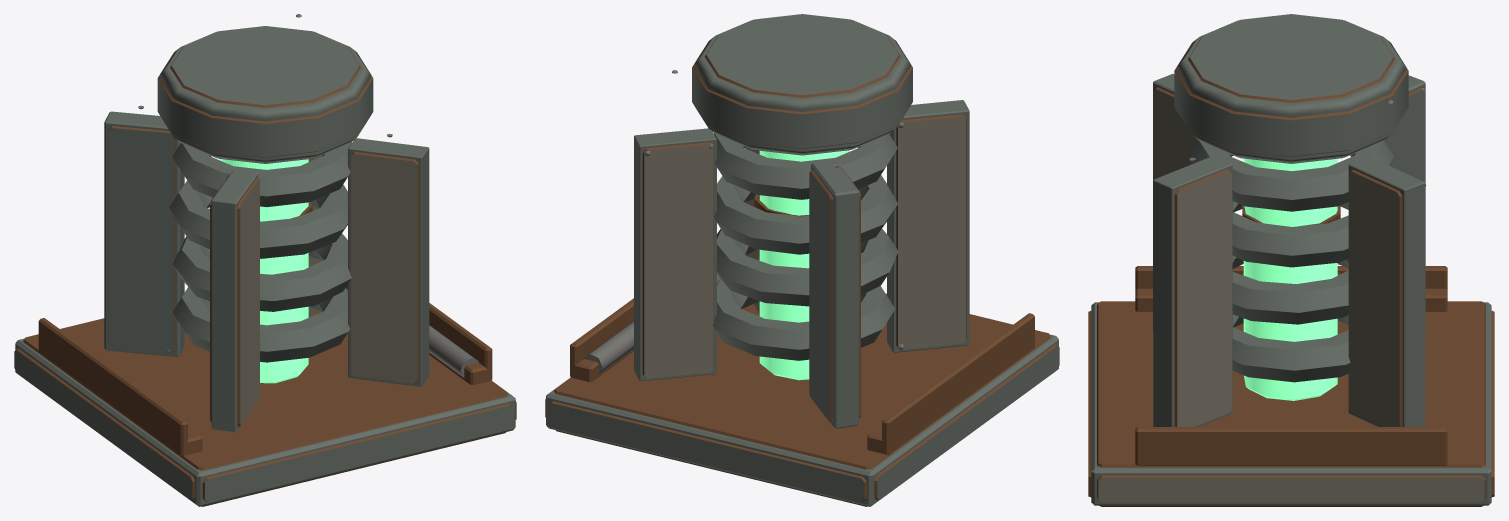
Rendered from R4X_EnergyRegenerator.fbx.
3 views of the same model, side by side, from view 1: azimuth 30°, elevation 25°; view 2: azimuth 150°, elevation 25°; view 3: azimuth 270°, elevation 25° (orthographic). The views are drawn at different scales.
Visible parts, largest first — view 1: R4X_EnergyRegenerator_Body; view 2: R4X_EnergyRegenerator_Body; view 3: R4X_EnergyRegenerator_Body.
Part boxes in pixels (x1,y1,x2,y2): R4X_EnergyRegenerator_Body: (14,14,516,506); R4X_EnergyRegenerator_Body: (545,14,1059,506); R4X_EnergyRegenerator_Body: (1088,14,1494,506).
Size of the model in its own units: 0.52 by 0.52 by 0.52.
